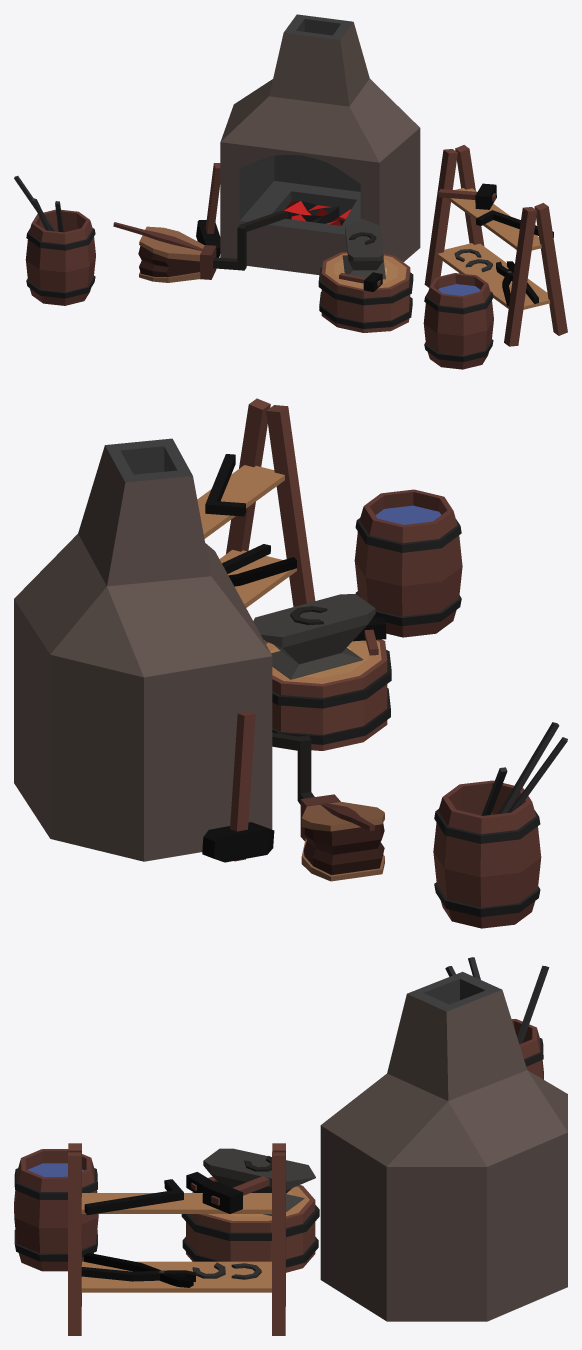
File: smithy_3.fbx
The picture shows the model from 3 angles, top to bottom: view 1: azimuth 30°, elevation 25°; view 2: azimuth 150°, elevation 25°; view 3: azimuth 270°, elevation 25°; orthographic projection. The views are drawn at different scales.
Visible parts, largest first — view 1: oven.001, shelving, barrel.001, barrel.002, stump.002, bellows.002, anvil.002, hammer.003, hammer.001, ticks left.001, poker, hammer.002; view 2: oven.001, barrel.001, barrel.002, shelving, stump.002, bellows.002, anvil.002, hammer.003, ticks left.001, poker, twig 1, hammer.002; view 3: oven.001, shelving, barrel.001, stump.002, anvil.002, ticks left.001, hammer.001, poker, barrel.002, twig 2.
Boxes of the visible parts, x1,y1,x2,y2 form: oven.001: (220, 14, 420, 274); shelving: (424, 145, 567, 346); barrel.001: (423, 273, 493, 369); barrel.002: (25, 209, 95, 305); stump.002: (318, 251, 413, 332); bellows.002: (113, 210, 291, 282); anvil.002: (342, 219, 385, 279); hammer.003: (196, 163, 220, 257); hammer.001: (438, 183, 496, 209); ticks left.001: (496, 261, 538, 306); poker: (476, 210, 553, 237); hammer.002: (339, 272, 382, 292); oven.001: (14, 438, 272, 861); barrel.001: (354, 489, 462, 637); barrel.002: (433, 780, 541, 928); shelving: (197, 398, 315, 607); stump.002: (264, 639, 391, 750); bellows.002: (272, 732, 384, 881); anvil.002: (253, 594, 375, 679); hammer.003: (202, 711, 274, 862); ticks left.001: (222, 544, 296, 586); poker: (205, 454, 245, 516); twig 1: (498, 722, 559, 813); hammer.002: (353, 617, 386, 655); oven.001: (320, 971, 567, 1321); shelving: (68, 1143, 285, 1335); barrel.001: (14, 1149, 98, 1271); stump.002: (181, 1185, 319, 1272); anvil.002: (203, 1148, 315, 1215); ticks left.001: (81, 1252, 195, 1287); hammer.001: (202, 1176, 269, 1213); poker: (84, 1179, 183, 1215); barrel.002: (511, 1019, 543, 1079); twig 2: (517, 965, 549, 1044).
Size of the model in its own units: 162 by 90.5 by 160.
